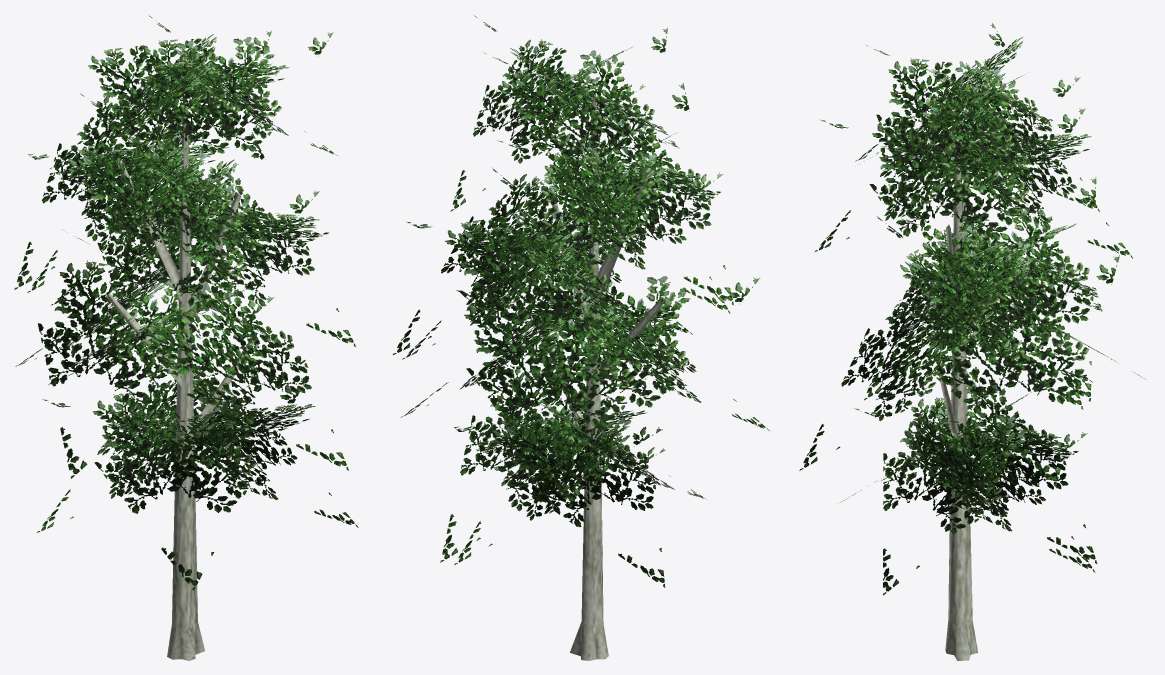
File: beech-1.glb
3 views of the same model, side by side, from view 1: azimuth 30°, elevation 25°; view 2: azimuth 150°, elevation 25°; view 3: azimuth 270°, elevation 25° (orthographic).
Visible parts, largest first — view 1: beech-1; view 2: beech-1; view 3: beech-1.
Part boxes in pixels (x1,y1,x2,y2): beech-1: (14,15,358,660); beech-1: (393,15,769,660); beech-1: (799,23,1145,660).
Bounding box in the file's own units: 9.15 × 17.46 × 9.35.
2 materials, 2 textured.
